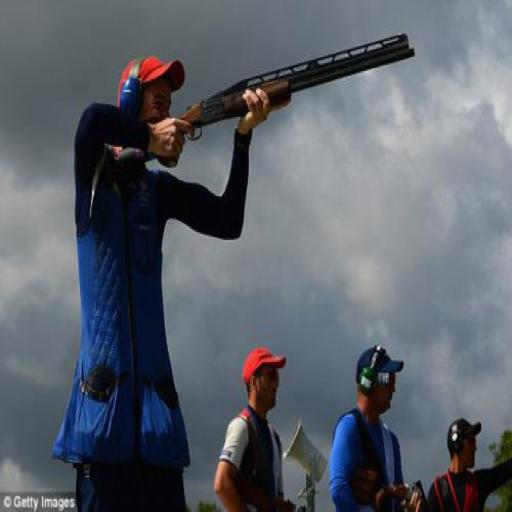shooting: (52, 54, 274, 510), (327, 342, 425, 510), (212, 344, 302, 510), (424, 414, 511, 510)
